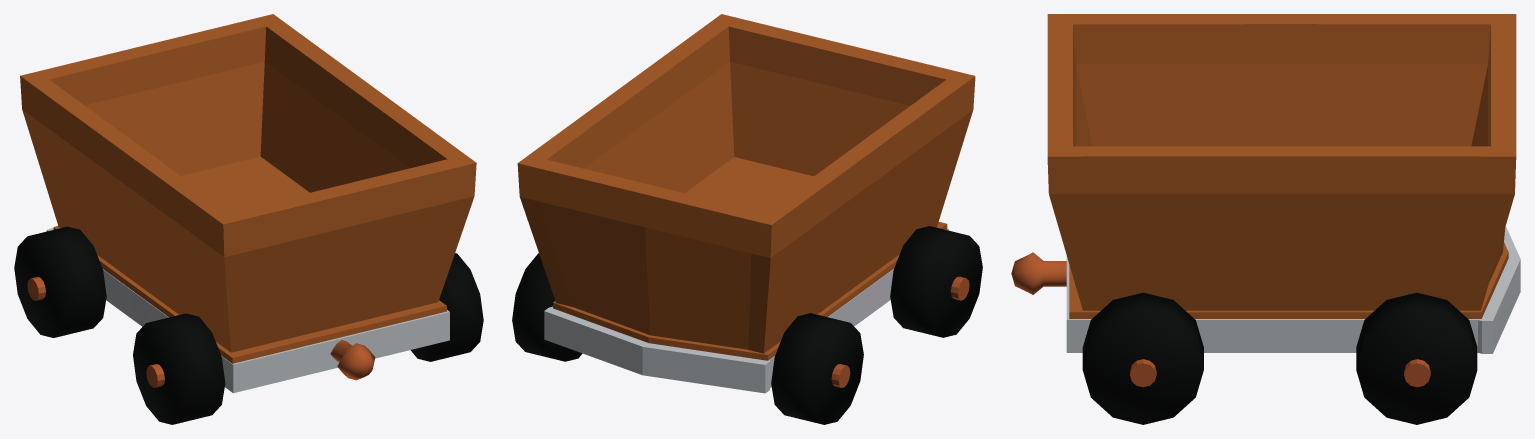
The model's file is vagonetka.fbx.
3 renders of one model, left to right at view 1: azimuth 30°, elevation 25°; view 2: azimuth 150°, elevation 25°; view 3: azimuth 270°, elevation 25°, orthographic. The views are drawn at different scales.
Parts seen in each view (by area): view 1: vagonetka; view 2: vagonetka; view 3: vagonetka.
Part boxes in pixels (left/top/right/bottom): vagonetka: left=14, top=14, right=483, bottom=424; vagonetka: left=512, top=14, right=982, bottom=424; vagonetka: left=1011, top=14, right=1520, bottom=424.
Bounding box in the file's own units: 2.06 × 1.4 × 2.52.
